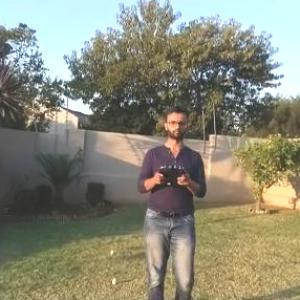follow: (130, 101, 212, 299)
